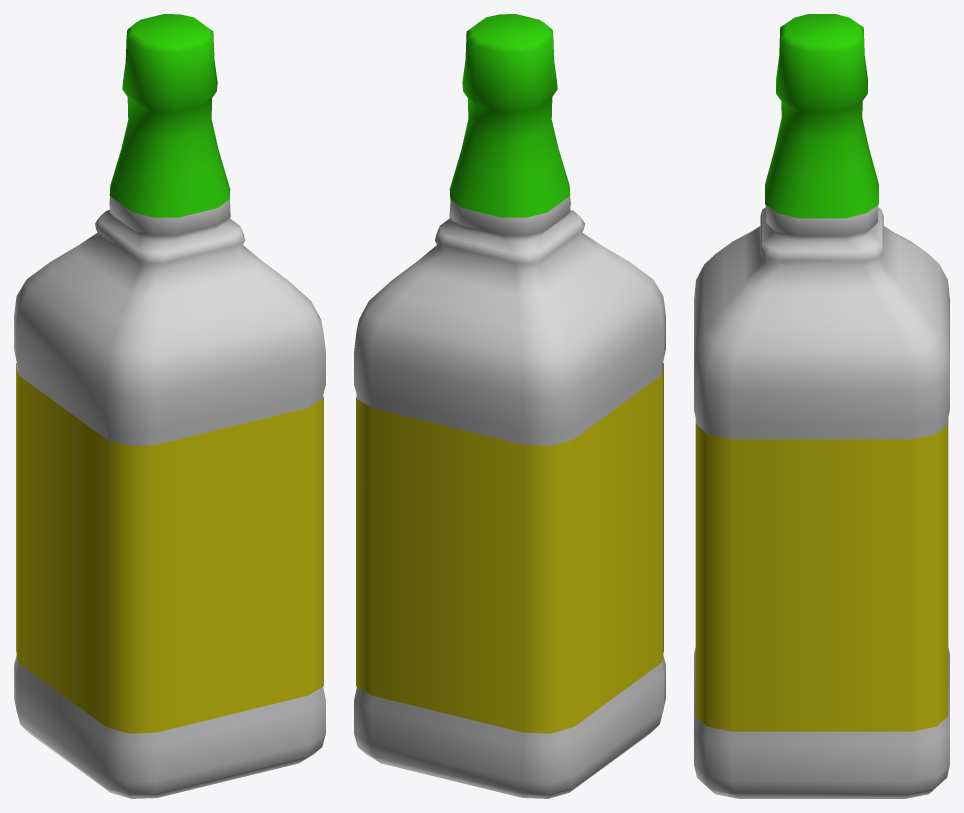
File: BHP_MOD_E_BOT_Whiskey.fbx
The picture shows the model from 3 angles, left to right: view 1: azimuth 30°, elevation 25°; view 2: azimuth 150°, elevation 25°; view 3: azimuth 270°, elevation 25°; orthographic projection.
Parts seen in each view (by area): view 1: BHP_MOD_E_BOT_Whiskey; view 2: BHP_MOD_E_BOT_Whiskey; view 3: BHP_MOD_E_BOT_Whiskey.
Part boxes in pixels (bbox=[...]): BHP_MOD_E_BOT_Whiskey: bbox=[14, 14, 325, 798]; BHP_MOD_E_BOT_Whiskey: bbox=[354, 14, 665, 798]; BHP_MOD_E_BOT_Whiskey: bbox=[694, 14, 949, 798].
Size of the model in its own units: 0.1002 by 0.311 by 0.1002.
